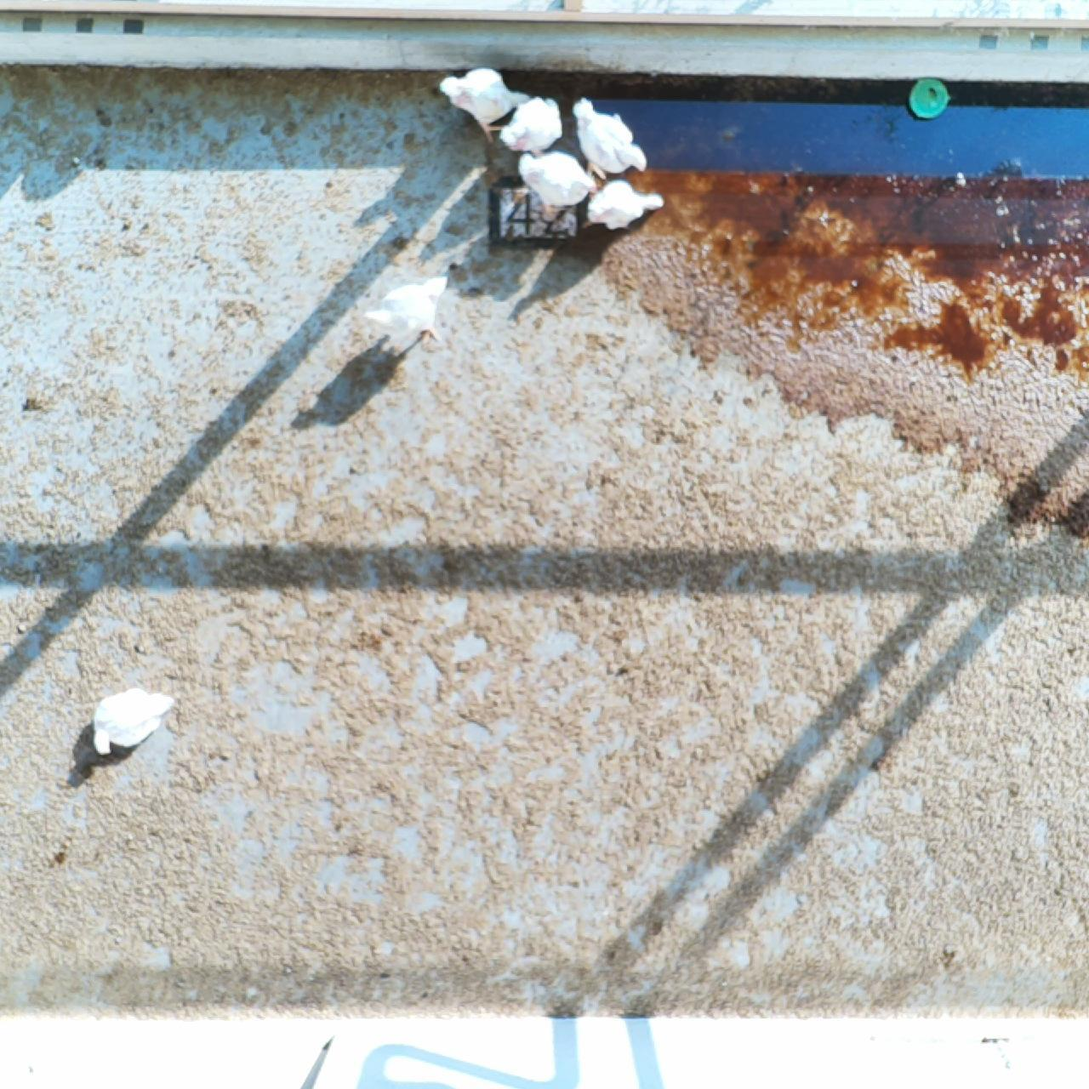chicken: (367, 247, 468, 366), (563, 91, 659, 180), (90, 681, 175, 781), (426, 63, 519, 146), (582, 174, 661, 262), (517, 152, 599, 219), (504, 89, 564, 161)
